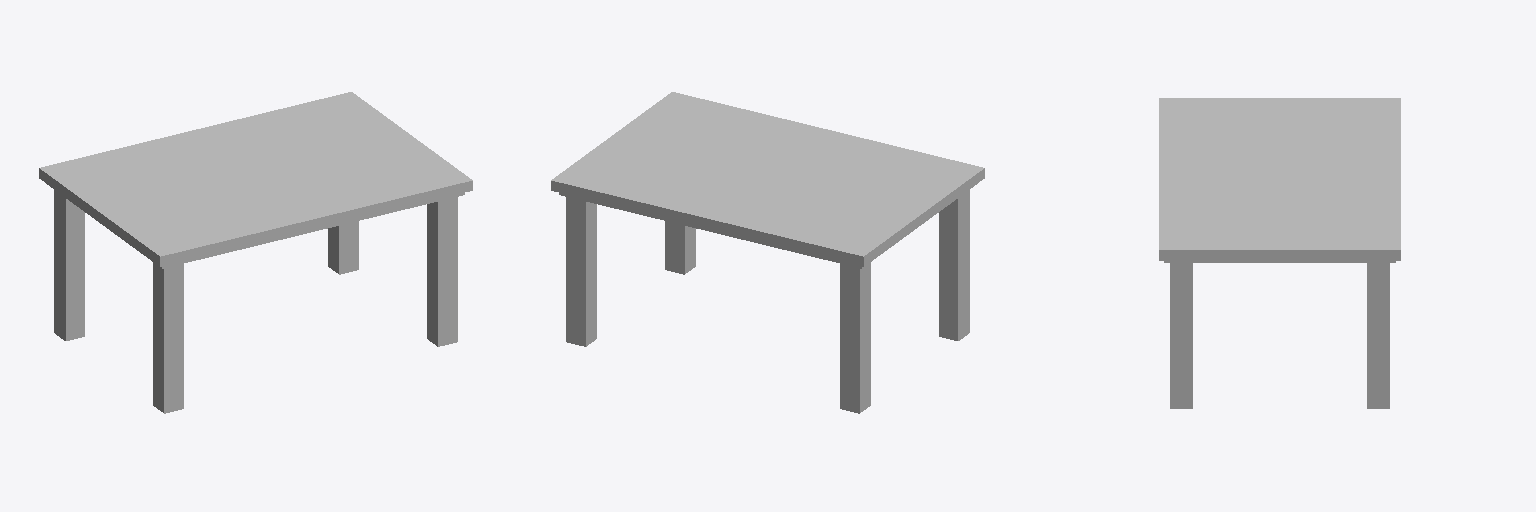
The model's file is Table.obj.
3 views of the same model, side by side, from view 1: azimuth 30°, elevation 25°; view 2: azimuth 150°, elevation 25°; view 3: azimuth 270°, elevation 25° (orthographic).
Parts seen in each view (by area): view 1: object 1; view 2: object 1; view 3: object 1.
Part boxes in pixels (x1,y1,x2,y2): object 1: (39, 92, 472, 413); object 1: (551, 92, 984, 413); object 1: (1159, 98, 1400, 408).
Size of the model in its own units: 6.4 by 3.2 by 4.3.